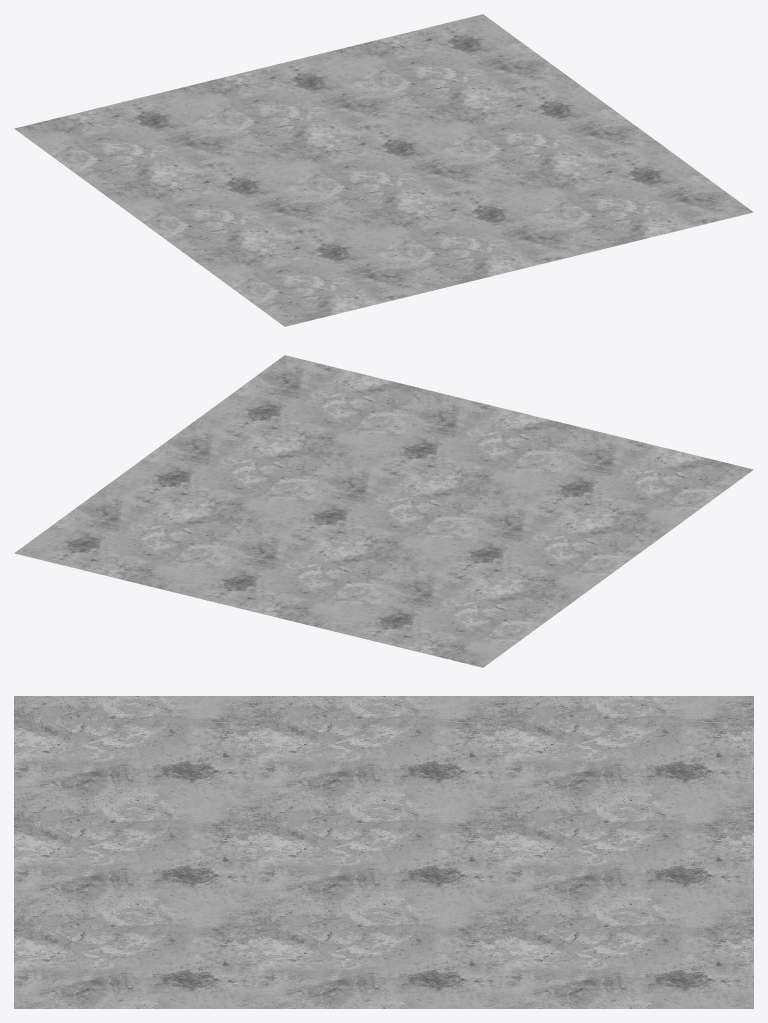
File: SM_Floor_12x12_02a.fbx
3 views of the same model, one above another, from view 1: azimuth 30°, elevation 25°; view 2: azimuth 150°, elevation 25°; view 3: azimuth 270°, elevation 25° (orthographic). The views are drawn at different scales.
Visible parts, largest first — view 1: SM_Floor_12x12_02a_LOD0; view 2: SM_Floor_12x12_02a_LOD0; view 3: SM_Floor_12x12_02a_LOD0.
Boxes of the visible parts, left/top/right/bottom form: SM_Floor_12x12_02a_LOD0: left=14, top=14, right=753, bottom=326; SM_Floor_12x12_02a_LOD0: left=14, top=355, right=753, bottom=667; SM_Floor_12x12_02a_LOD0: left=14, top=696, right=753, bottom=1008.
Size of the model in its own units: 1200 by 1200 by 1.45e-05.
